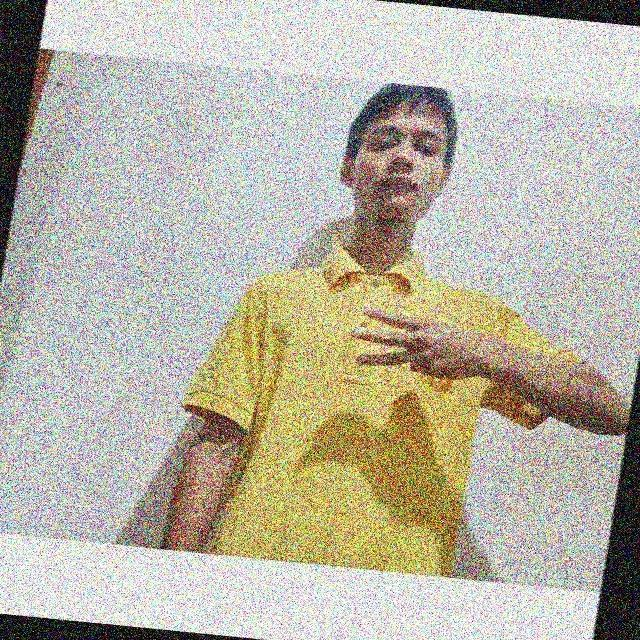E: (344, 297, 492, 393)
